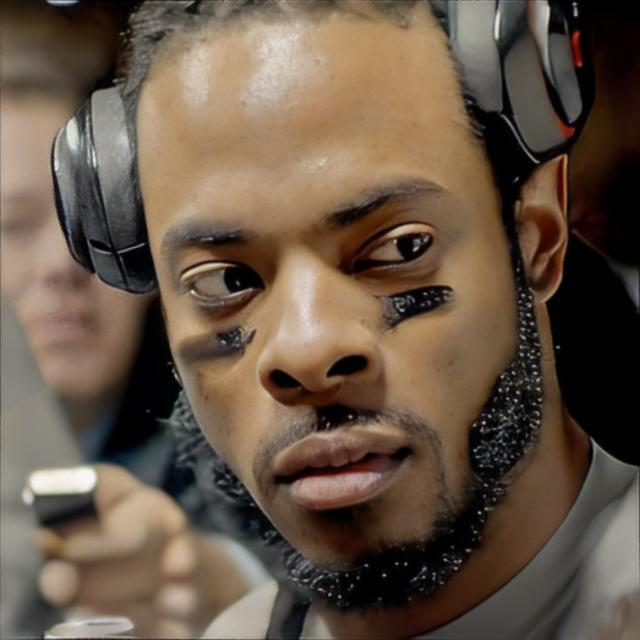neutral: (132, 0, 548, 609)
